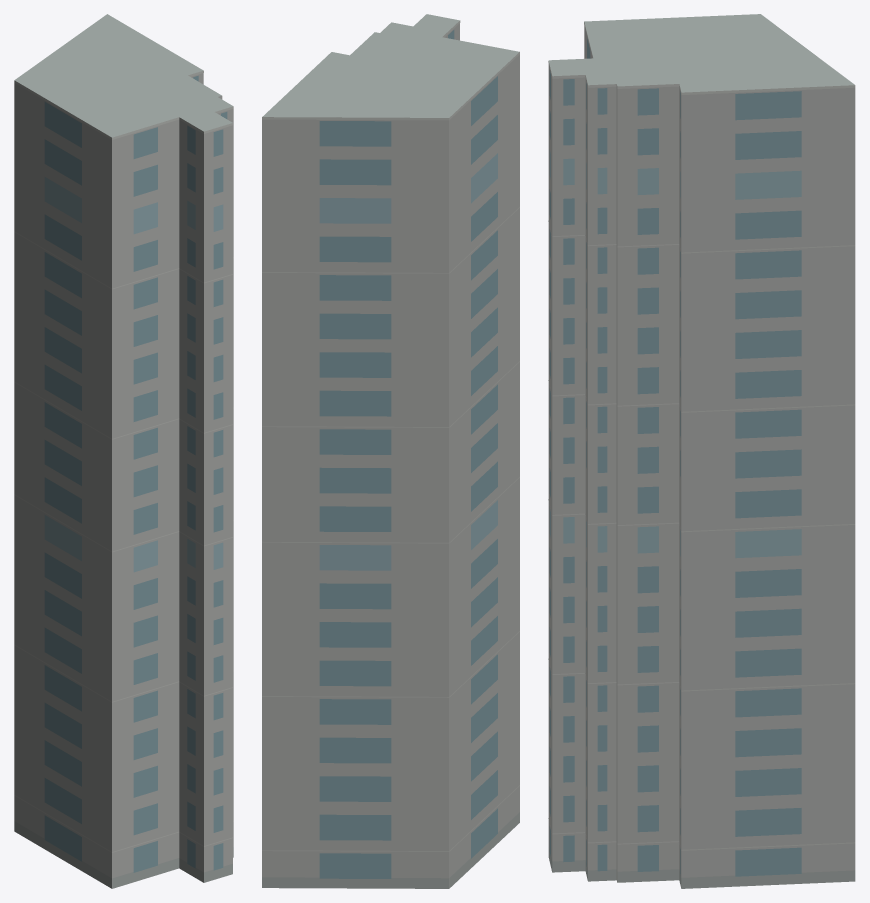
Rendered from survey-upis-32995775.glb.
3 views of the same model, side by side, from view 1: azimuth 30°, elevation 25°; view 2: azimuth 150°, elevation 25°; view 3: azimuth 270°, elevation 25° (orthographic). The views are drawn at different scales.
Visible parts, largest first — view 1: survey-upis-32995775.tmp; view 2: survey-upis-32995775.tmp; view 3: survey-upis-32995775.tmp.
Boxes of the visible parts, x1,y1,x2,y2 form: survey-upis-32995775.tmp: [14, 14, 233, 888]; survey-upis-32995775.tmp: [262, 14, 519, 888]; survey-upis-32995775.tmp: [548, 14, 855, 888].
Size of the model in its own units: 16.14 by 76.1 by 26.6.
